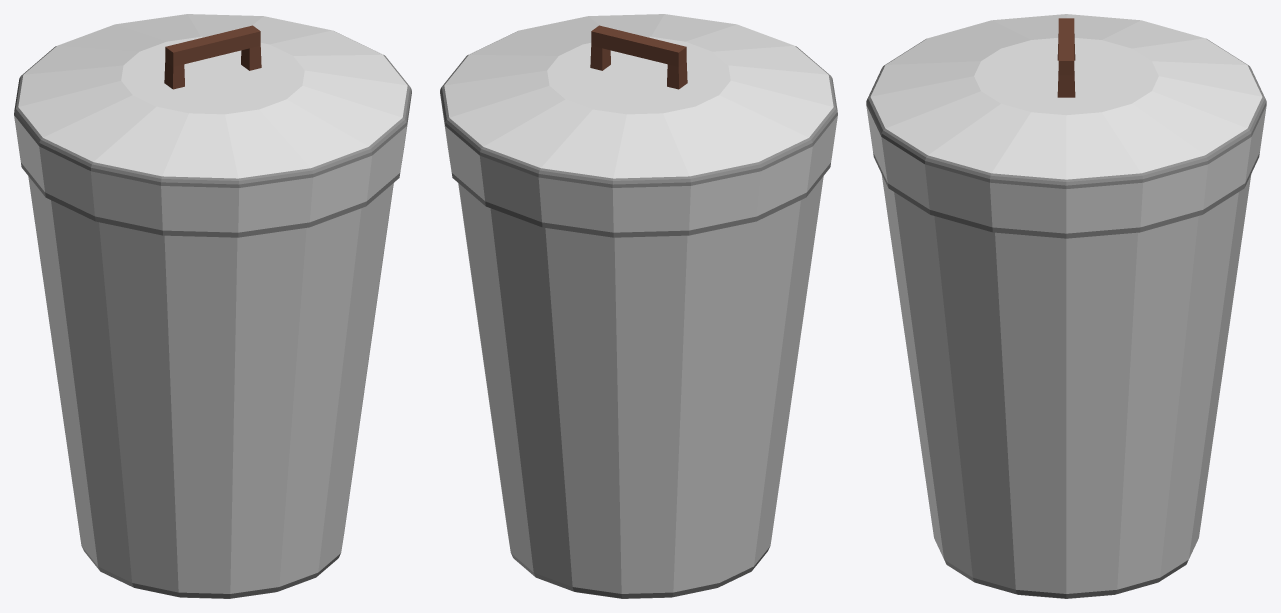
The model's file is DUSTBIN.fbx.
The picture shows the model from 3 angles, left to right: view 1: azimuth 30°, elevation 25°; view 2: azimuth 150°, elevation 25°; view 3: azimuth 270°, elevation 25°; orthographic projection.
Parts seen in each view (by area): view 1: Cube; view 2: Cube; view 3: Cube.
Boxes of the visible parts, <box> form: Cube: <box>14,14,411,598</box>; Cube: <box>440,14,837,598</box>; Cube: <box>866,14,1266,598</box>.
Size of the model in its own units: 228 by 318 by 228.
